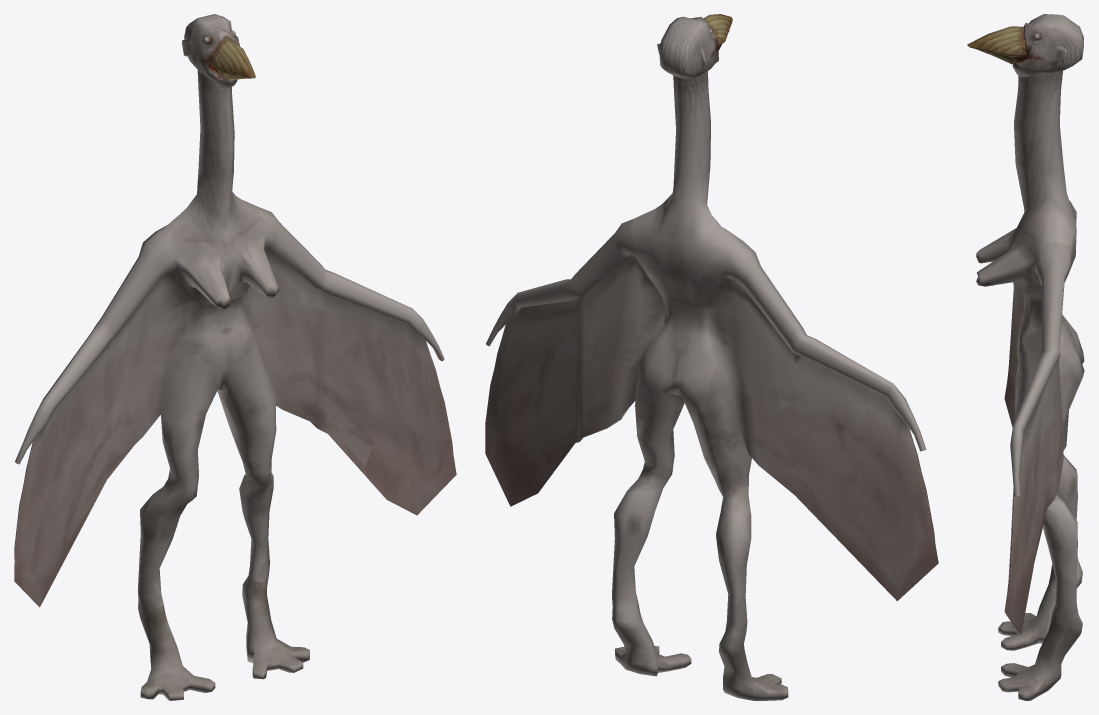
The model's file is Harpie(Unrigged).fbx.
The picture shows the model from 3 angles, left to right: view 1: azimuth 30°, elevation 25°; view 2: azimuth 150°, elevation 25°; view 3: azimuth 270°, elevation 25°; orthographic projection. The views are drawn at different scales.
Parts seen in each view (by area): view 1: BodyGEO, HeadGEO, BeakTopGEO; view 2: BodyGEO, HeadGEO; view 3: BodyGEO, HeadGEO, BeakTopGEO, BeakBottomGEO.
Boxes of the visible parts, x1,y1,x2,y2 form: BodyGEO: (14, 70, 456, 700); HeadGEO: (182, 14, 239, 88); BeakTopGEO: (208, 38, 255, 78); BodyGEO: (485, 70, 938, 700); HeadGEO: (657, 16, 718, 79); BodyGEO: (976, 71, 1084, 700); HeadGEO: (1012, 14, 1083, 76); BeakTopGEO: (967, 26, 1026, 56); BeakBottomGEO: (976, 49, 1026, 64).
Bounding box in the file's own units: 9.07 × 12.76 × 2.1.
Materials: 1 (1 with a texture image).
